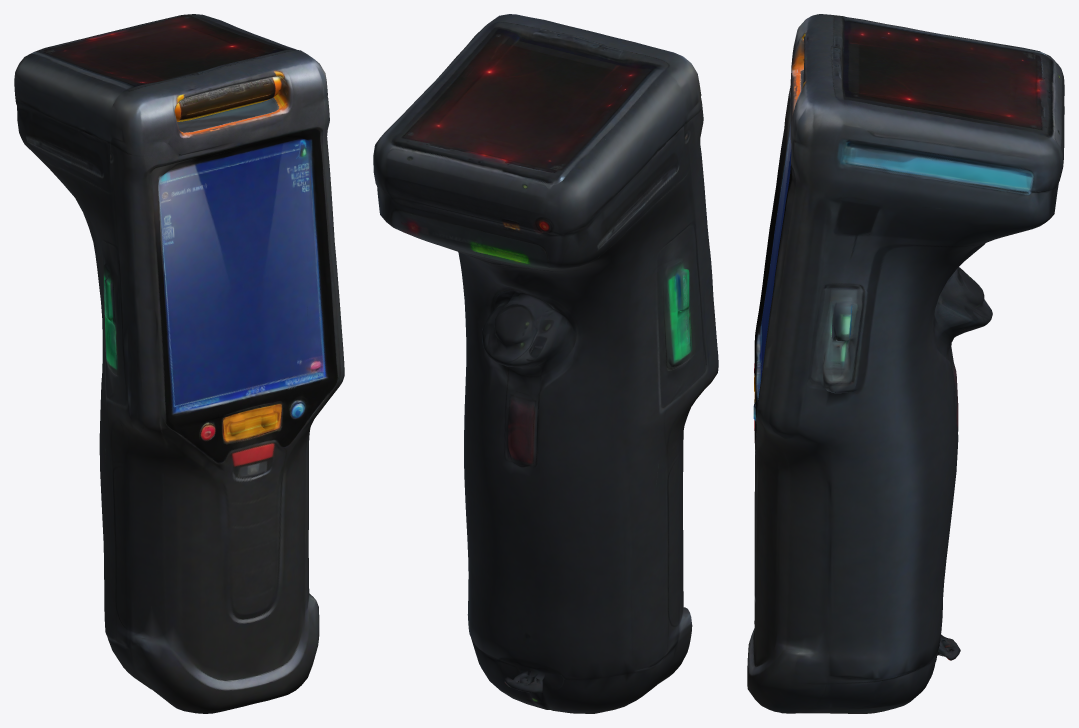
File: handheld_QR_scanner_w_0510233523_texture.fbx
The picture shows the model from 3 angles, left to right: view 1: azimuth 30°, elevation 25°; view 2: azimuth 150°, elevation 25°; view 3: azimuth 270°, elevation 25°; orthographic projection. The views are drawn at different scales.
Visible parts, largest first — view 1: Mesh_0; view 2: Mesh_0; view 3: Mesh_0.
Part boxes in pixels (box(x1,y1,x2,y2)): Mesh_0: box(14, 14, 344, 713); Mesh_0: box(373, 14, 718, 713); Mesh_0: box(747, 14, 1064, 713).
Size of the model in its own units: 70.86 by 200 by 90.48.
Materials: 1 (1 with a texture image).
